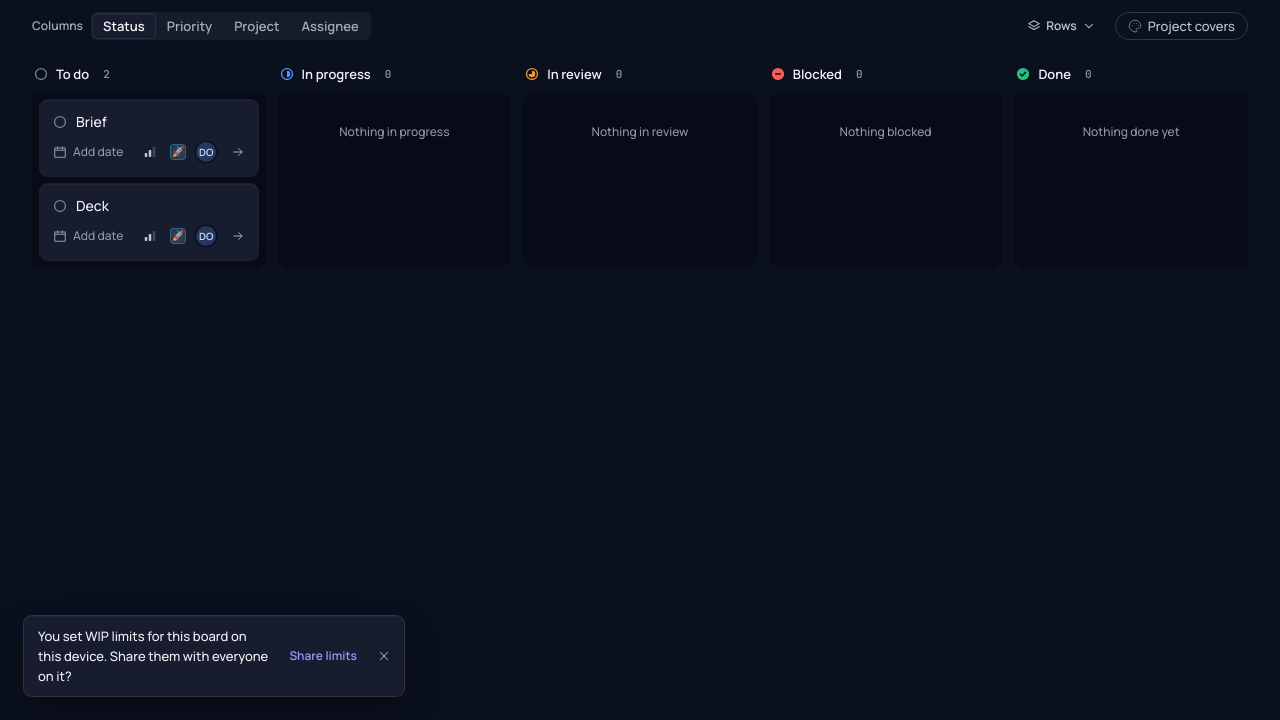
Test: WIP limits › offers this device's limits for this board up to the project once, and shares them only on a yes
Expected: the text "You set WIP limits for this board on this device. Share them with everyone on it?" is shown, 38,627 -> 268,685
Click the button "Share limits". click: [323, 656]
box: 278,642 -> 368,670
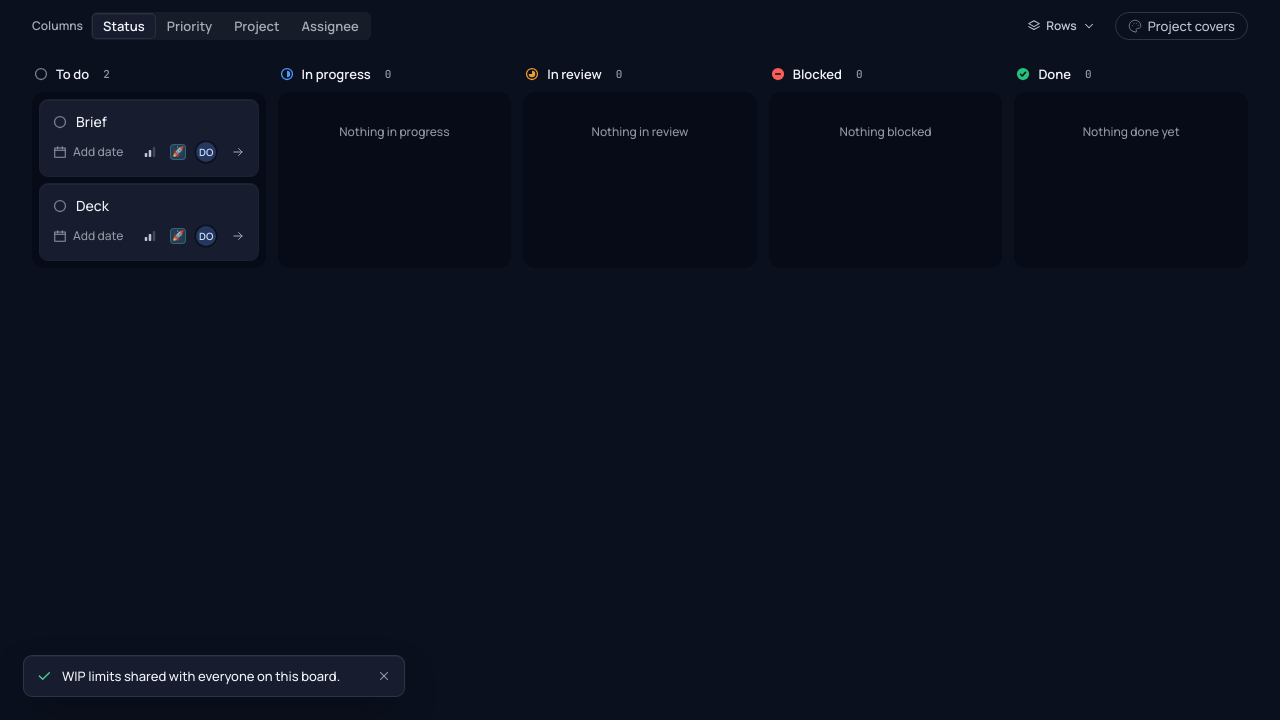
Expected: the text "WIP limits shared with everyone on this board." is shown, 62,662 -> 360,690
